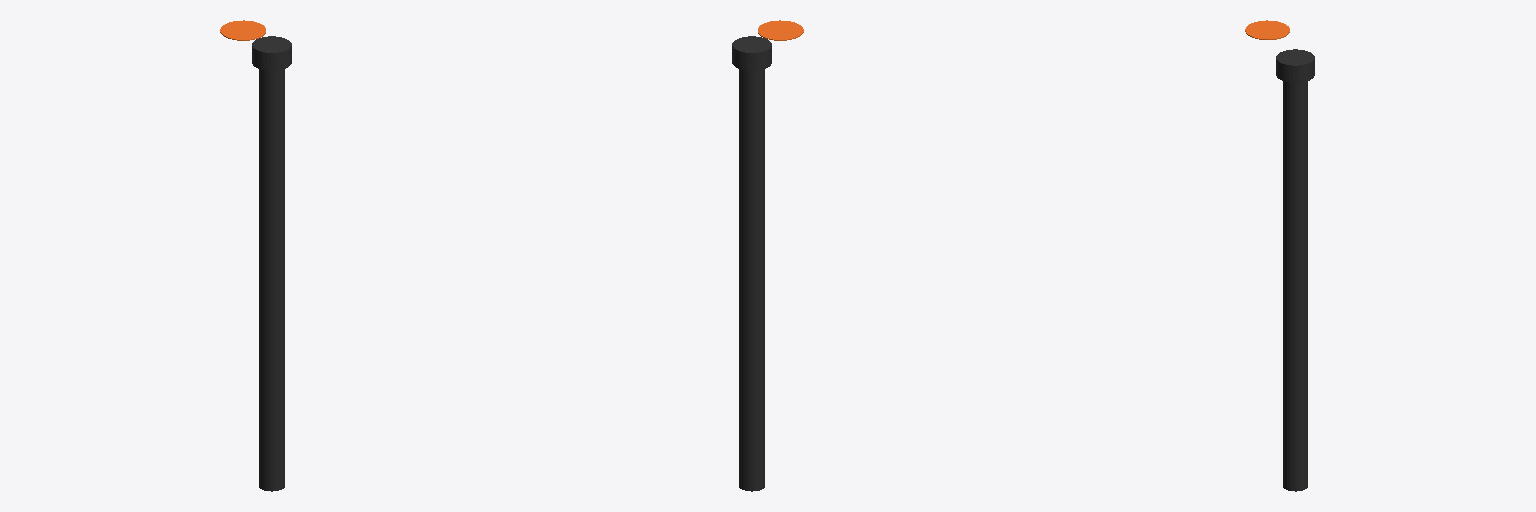
robot.urdf — happymimiGen2:
<?xml version="1.0" encoding="utf-8"?>
<!-- =================================================================================== -->
<!-- |    This document was autogenerated by xacro from happymimi.urdf.xacro           | -->
<!-- |    EDITING THIS FILE BY HAND IS NOT RECOMMENDED                                 | -->
<!-- =================================================================================== -->
<robot name="happymimiGen2">
  <link name="base_footprint"/>
  <joint name="base_joint" type="fixed">
    <origin xyz="0 0 0"/>
    <parent link="base_footprint"/>
    <child link="base_link"/>
  </joint>
  <link name="base_link">
    <visual>
      <origin xyz="-0.028241 -0.073553 0.01"/>
      <geometry>
        <mesh filename="package://happymimi_description/meshes/dae/megarover.dae"/>
      </geometry>
    </visual>
  </link>
  <!-- <joint name="doutai_joint" type="fixed"> -->
  <!-- <xacro:insert_block name="joint_origin"/> -->
  <!-- <parent link="base_link"/> -->
  <!-- <child  link="doutai_link"/> -->
  <!-- </joint> -->
  <!-- <link name="doutai_link"> -->
  <!-- 	<visual> -->
  <!-- 		<origin xyz="&#45;0.08 0.10455 0.33" rpy="0 3.14 1.57"/> -->
  <!--     <color rgba="46 43 44 0.2" /> -->
  <!-- 		<geometry> -->
  <!--       <mesh filename="package://happymimi_description/meshes/stl/gen2_body.stl" scale="0.01 0.01 0.01" /> -->
  <!-- 		</geometry> -->
  <!-- 	</visual> -->
  <!-- </link> -->
  <material name="orange">
    <color rgba="1.0 0.5 0.2 1"/>
  </material>
  <material name="gray">
    <color rgba="0.25 0.25 0.25 1"/>
  </material>
  <!-- spine -->
  <joint name="spine_joint" type="fixed">
    <parent link="base_link"/>
    <child link="spine_link"/>
    <origin rpy="0 0 0" xyz="-0.03 0 0.165"/>
  </joint>
  <link name="spine_link">
    <visual>
      <origin rpy="0 0 0" xyz="0 0 0.361"/>
      <geometry>
        <cylinder length="0.722" radius="0.02"/>
      </geometry>
      <material name="gray"/>
    </visual>
  </link>
  <!-- neck -->
  <joint name="neck_joint" type="revolute">
    <parent link="spine_link"/>
    <child link="neck_link"/>
    <origin rpy="0 0 0" xyz="0 0 0.722"/>
    <axis xyz="0 1 0"/>
    <limit effort="1000" lower="-1.5" upper="1.5" velocity="0.5"/>
  </joint>
  <link name="neck_link">
    <visual>
      <origin rpy="0 0 0" xyz="0 0 0"/>
      <geometry>
        <cylinder length="0.03" radius="0.03"/>
      </geometry>
      <material name="gray"/>
    </visual>
  </link>
  <!--  lidar  -->
  <joint name="base_laser_link_joint" type="fixed">
    <parent link="base_link"/>
    <child link="base_laser_link"/>
    <origin rpy="3.14159 0.0 0.0" xyz="0.1 0 0.06"/>
  </joint>
  <link name="base_laser_link">
    <visual>
      <!-- <origin xyz="0 0 &#45;0.08" /> -->
      <origin rpy="0 3.14 3.14" xyz="0 0 -0.045"/>
      <geometry>
        <mesh filename="package://happymimi_description/meshes/stl/lrf.stl"/>
        <!-- <cylinder length="0.05" radius="0.03" /> -->
      </geometry>
      <material name="orange"/>
    </visual>
  </link>
  <material name="camera_aluminum">
    <color rgba="0.5 0.5 0.5 1"/>
  </material>
  <!-- camera body, with origin at bottom screw mount -->
  <joint name="camera_joint" type="fixed">
    <origin xyz="0.02 0 0.70"/>
    <parent link="base_link"/>
    <child link="camera_bottom_screw_frame"/>
  </joint>
  <link name="camera_bottom_screw_frame"/>
  <joint name="camera_link_joint" type="fixed">
    <origin rpy="0 0 0" xyz="0 0.0175 0.0125"/>
    <parent link="camera_bottom_screw_frame"/>
    <child link="camera_link"/>
  </joint>
  <link name="camera_link">
    <visual>
      <origin rpy="1.57079632679 0 1.57079632679" xyz="0.0149 -0.0175 0"/>
      <geometry>
        <!-- <box size="${d435_cam_width} ${d435_cam_height} ${d435_cam_depth}"/> -->
        <mesh filename="package://realsense2_description/meshes/d435.dae"/>
        <!--<mesh filename="package://realsense2_description/meshes/d435/d435.dae" />-->
      </geometry>
      <material name="camera_aluminum"/>
    </visual>
    <collision>
      <origin rpy="0 0 0" xyz="0 -0.0175 0"/>
      <geometry>
        <box size="0.02505 0.09 0.025"/>
      </geometry>
    </collision>
    <inertial>
      <!-- The following are not reliable values, and should not be used for modeling -->
      <mass value="0.564"/>
      <origin xyz="0 0 0"/>
      <inertia ixx="0.003881243" ixy="0.0" ixz="0.0" iyy="0.000498940" iyz="0.0" izz="0.003879257"/>
    </inertial>
  </link>
  <!-- camera depth joints and links -->
  <joint name="camera_depth_joint" type="fixed">
    <origin rpy="0 0 0" xyz="0 0 0"/>
    <parent link="camera_link"/>
    <child link="camera_depth_frame"/>
  </joint>
  <link name="camera_depth_frame"/>
  <joint name="camera_depth_optical_joint" type="fixed">
    <origin rpy="-1.57079632679 0 -1.57079632679" xyz="0 0 0"/>
    <parent link="camera_depth_frame"/>
    <child link="camera_depth_optical_frame"/>
  </joint>
  <link name="camera_depth_optical_frame"/>
  <!-- camera left IR joints and links -->
  <joint name="camera_left_ir_joint" type="fixed">
    <origin rpy="0 0 0" xyz="0 0.0 0"/>
    <parent link="camera_depth_frame"/>
    <child link="camera_left_ir_frame"/>
  </joint>
  <link name="camera_left_ir_frame"/>
  <joint name="camera_left_ir_optical_joint" type="fixed">
    <origin rpy="-1.57079632679 0 -1.57079632679" xyz="0 0 0"/>
    <parent link="camera_left_ir_frame"/>
    <child link="camera_left_ir_optical_frame"/>
  </joint>
  <link name="camera_left_ir_optical_frame"/>
  <!-- camera right IR joints and links -->
  <joint name="camera_right_ir_joint" type="fixed">
    <origin rpy="0 0 0" xyz="0 -0.05 0"/>
    <parent link="camera_depth_frame"/>
    <child link="camera_right_ir_frame"/>
  </joint>
  <link name="camera_right_ir_frame"/>
  <joint name="camera_right_ir_optical_joint" type="fixed">
    <origin rpy="-1.57079632679 0 -1.57079632679" xyz="0 0 0"/>
    <parent link="camera_right_ir_frame"/>
    <child link="camera_right_ir_optical_frame"/>
  </joint>
  <link name="camera_right_ir_optical_frame"/>
  <!-- camera color joints and links -->
  <joint name="camera_color_joint" type="fixed">
    <origin rpy="0 0 0" xyz="0 0.015 0"/>
    <parent link="camera_depth_frame"/>
    <child link="camera_color_frame"/>
  </joint>
  <link name="camera_color_frame"/>
  <joint name="camera_color_optical_joint" type="fixed">
    <origin rpy="-1.57079632679 0 -1.57079632679" xyz="0 0 0"/>
    <parent link="camera_color_frame"/>
    <child link="camera_color_optical_frame"/>
  </joint>
  <link name="camera_color_optical_frame"/>
  <!-- Realsense Gazebo Plugin -->
  <!-- <xacro:gazebo_d435 camera_name="realsense" reference_link="$realsense_link" topics_ns="camera" depth_optical_frame="realsense_depth_optical_frame" color_optical_frame="realsense_color_optical_frame" infrared1_optical_frame="realsense_left_ir_optical_frame" infrared2_optical_frame="realsense_right_ir_optical_frame"/> -->
  <!--  respeaker  -->
  <joint name="respeaker_link_joint" type="fixed">
    <parent link="neck_link"/>
    <child link="respeaker_link"/>
    <origin rpy="0 0 0" xyz="-0.05 0 0.05"/>
  </joint>
  <link name="respeaker_link">
    <visual>
      <origin rpy="0 0 0" xyz="0 0 0"/>
      <geometry>
        <cylinder length="0.0015" radius="0.035"/>
      </geometry>
      <material name="orange"/>
    </visual>
  </link>
</robot>

--- Facts derived from the render (not from the file) ---
The picture shows the robot from 3 angles, left to right: view 1: azimuth 30°, elevation 25°; view 2: azimuth 150°, elevation 25°; view 3: azimuth 330°, elevation 25°; orthographic projection.
Model happymimiGen2 with 16 links and 15 joints (1 revolute, 14 fixed), rooted at base_footprint, posed all joints at 0.
Visible links, largest first — view 1: spine_link, neck_link, respeaker_link; view 2: spine_link, neck_link, respeaker_link; view 3: spine_link, neck_link, respeaker_link.
Link boxes in pixels (box(x1,y1,x2,y2)): spine_link: box(259, 69, 284, 491); neck_link: box(252, 36, 291, 70); respeaker_link: box(220, 20, 265, 40); spine_link: box(739, 69, 764, 491); neck_link: box(732, 36, 771, 70); respeaker_link: box(758, 20, 803, 40); spine_link: box(1283, 81, 1307, 491); neck_link: box(1276, 49, 1314, 82); respeaker_link: box(1245, 20, 1289, 39).
Size in the robot's own frame: 0.115 by 0.07 by 0.7728 metres.
0 mesh visuals loaded from 3 distinct referenced files (none loaded); not drawn: 3 (reference not matched to a file when rendering).
